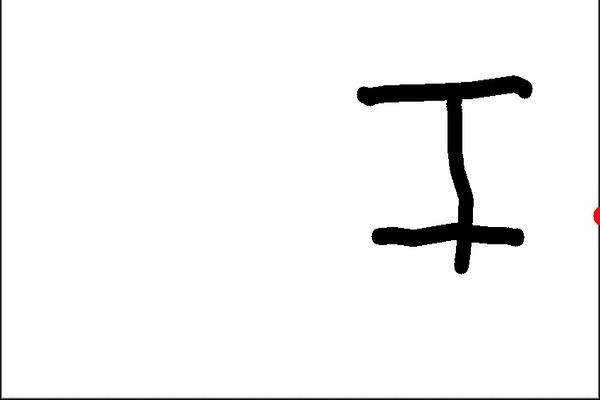i: (347, 68, 549, 276)
